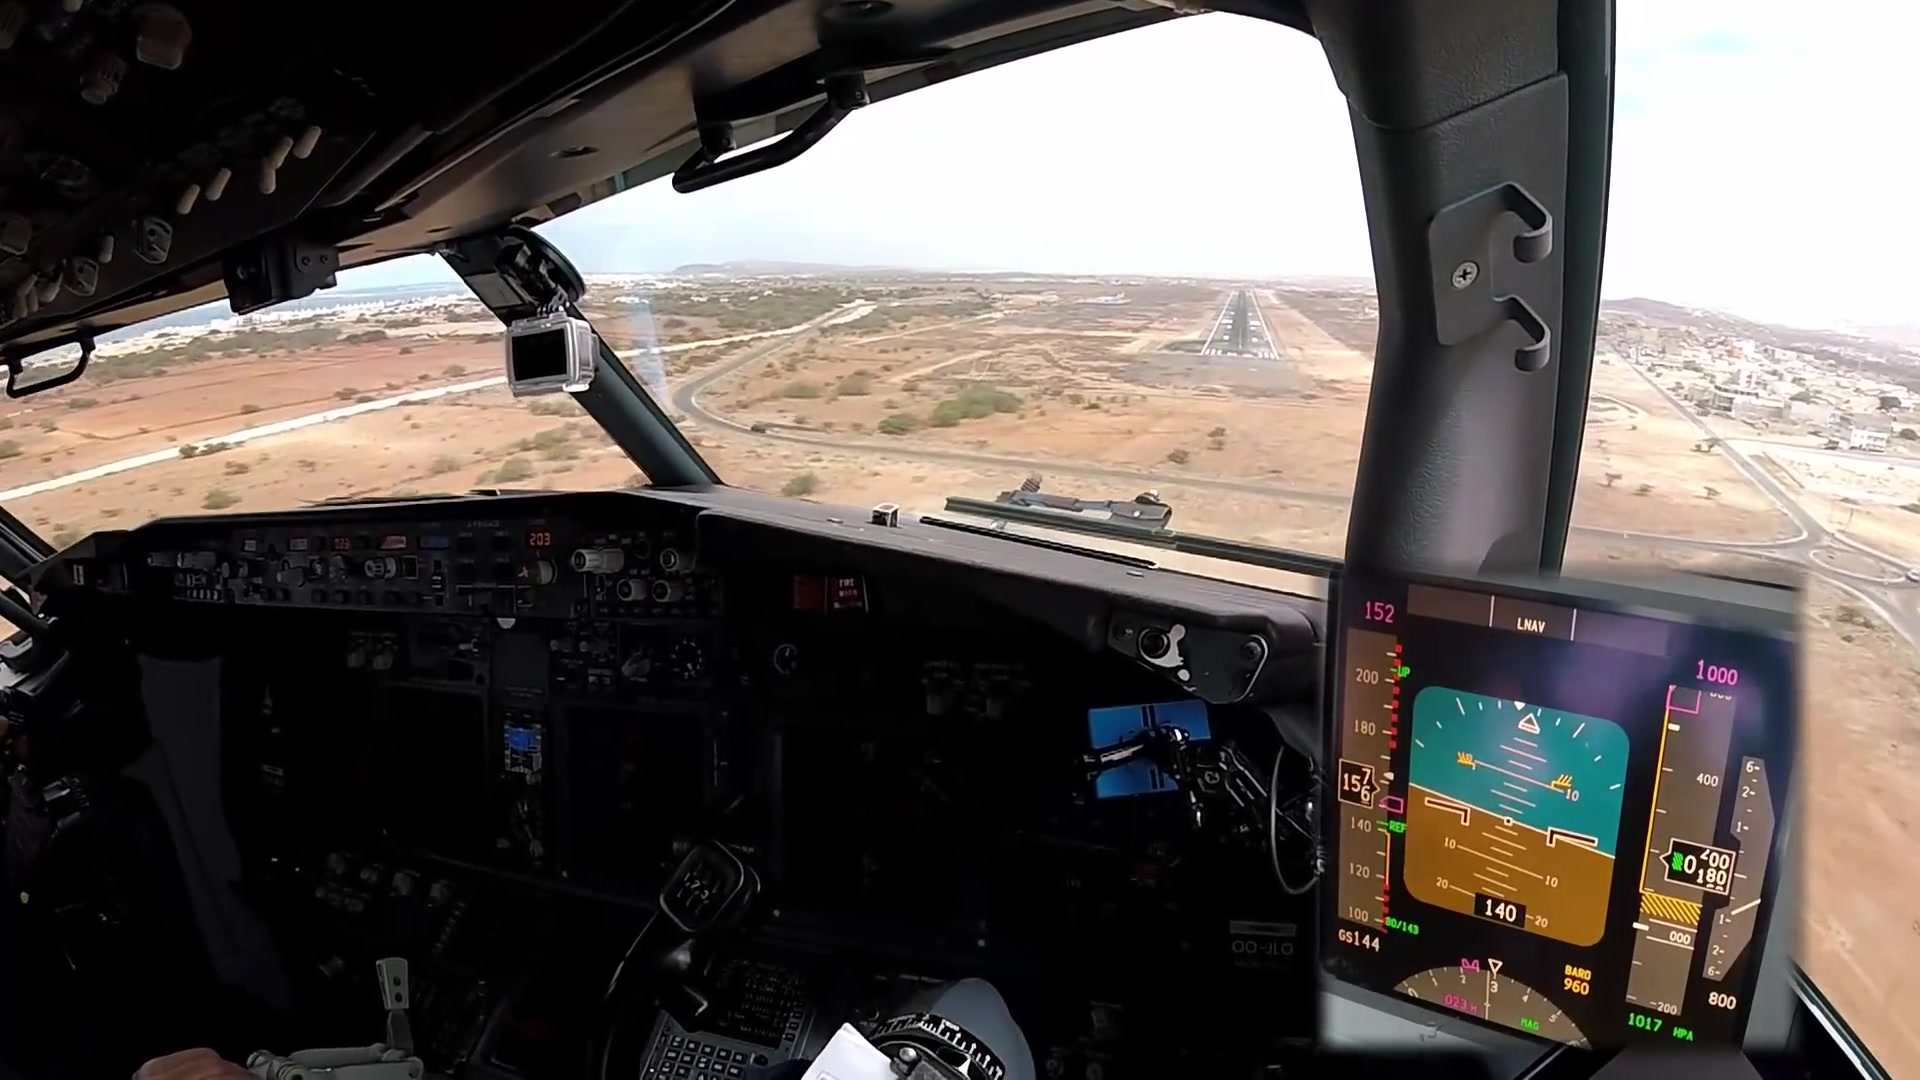entrance: (1204, 348, 1276, 359)
runway: (1201, 291, 1280, 360)
